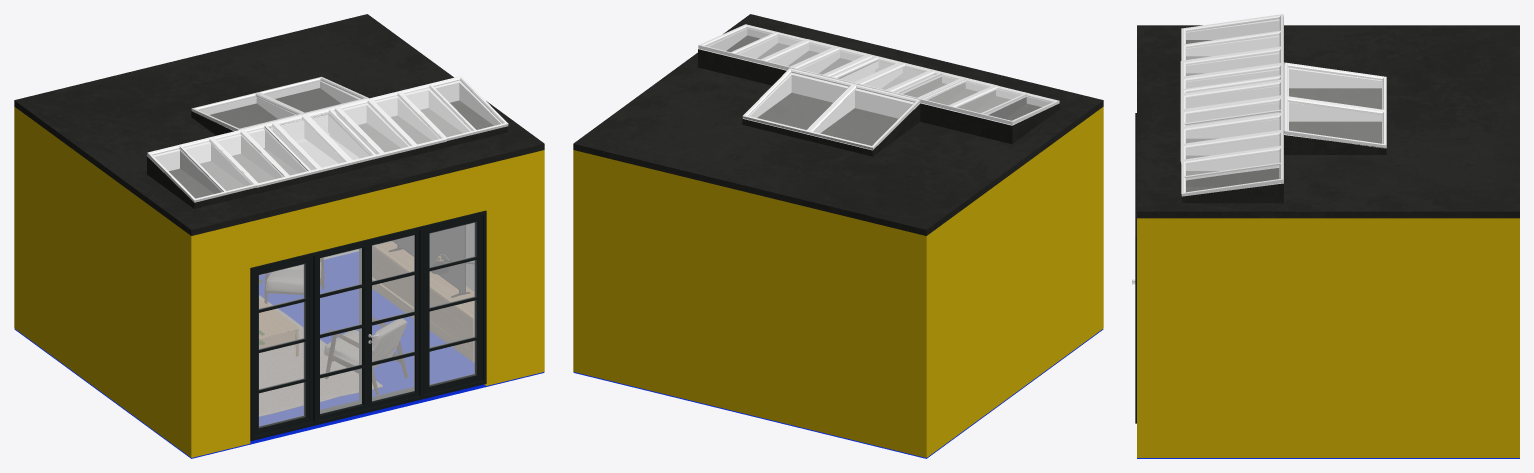
The picture shows the model from 3 angles, left to right: view 1: azimuth 30°, elevation 25°; view 2: azimuth 150°, elevation 25°; view 3: azimuth 270°, elevation 25°; orthographic projection. The views are drawn at different scales.
Parts seen in each view (by area): view 1: Walls, Door_3, Skylight Lean 4, Skylight Gable 4, Skylight Lean 3, Door_1, Skylight Lean 5, Skylight Lean 1, Floor, Skylight Lean 2, Door_2, Console (+6 smaller); view 2: Walls, Skylight Lean 3, Skylight Gable 4, Skylight Lean 4, Skylight Lean 5, Skylight Lean 2, Skylight Lean 1, Floor; view 3: Walls, Skylight Lean 4, Skylight Gable 4, Skylight Lean 3, Skylight Lean 5, Skylight Lean 1, Skylight Lean 2, Door_3.
Boxes of the visible parts, x1,y1,x2,y2 form: Walls: [14, 107, 544, 457]; Door_3: [250, 210, 486, 440]; Skylight Lean 4: [23, 15, 544, 233]; Skylight Gable 4: [26, 16, 542, 233]; Skylight Lean 3: [14, 15, 544, 234]; Door_1: [254, 215, 482, 436]; Skylight Lean 5: [18, 15, 544, 230]; Skylight Lean 1: [14, 14, 544, 235]; Floor: [14, 251, 544, 458]; Skylight Lean 2: [14, 23, 544, 235]; Door_2: [320, 235, 415, 413]; Console: [372, 241, 473, 361]; Walls: [573, 78, 1103, 457]; Skylight Lean 3: [574, 39, 1087, 235]; Skylight Gable 4: [576, 48, 1091, 225]; Skylight Lean 4: [597, 14, 1063, 229]; Skylight Lean 5: [573, 14, 1076, 235]; Skylight Lean 2: [576, 25, 1103, 228]; Skylight Lean 1: [638, 18, 1103, 233]; Floor: [573, 329, 1103, 458]; Walls: [1137, 106, 1519, 457]; Skylight Lean 4: [1137, 25, 1518, 218]; Skylight Gable 4: [1184, 27, 1519, 211]; Skylight Lean 3: [1137, 26, 1519, 218]; Skylight Lean 5: [1137, 14, 1519, 218]; Skylight Lean 1: [1137, 25, 1519, 211]; Skylight Lean 2: [1137, 25, 1519, 211]; Door_3: [1132, 113, 1136, 423].
Bounding box in the file's own units: 4.57 × 3.11 × 4.03.
Materials: 46 (19 with a texture image).
